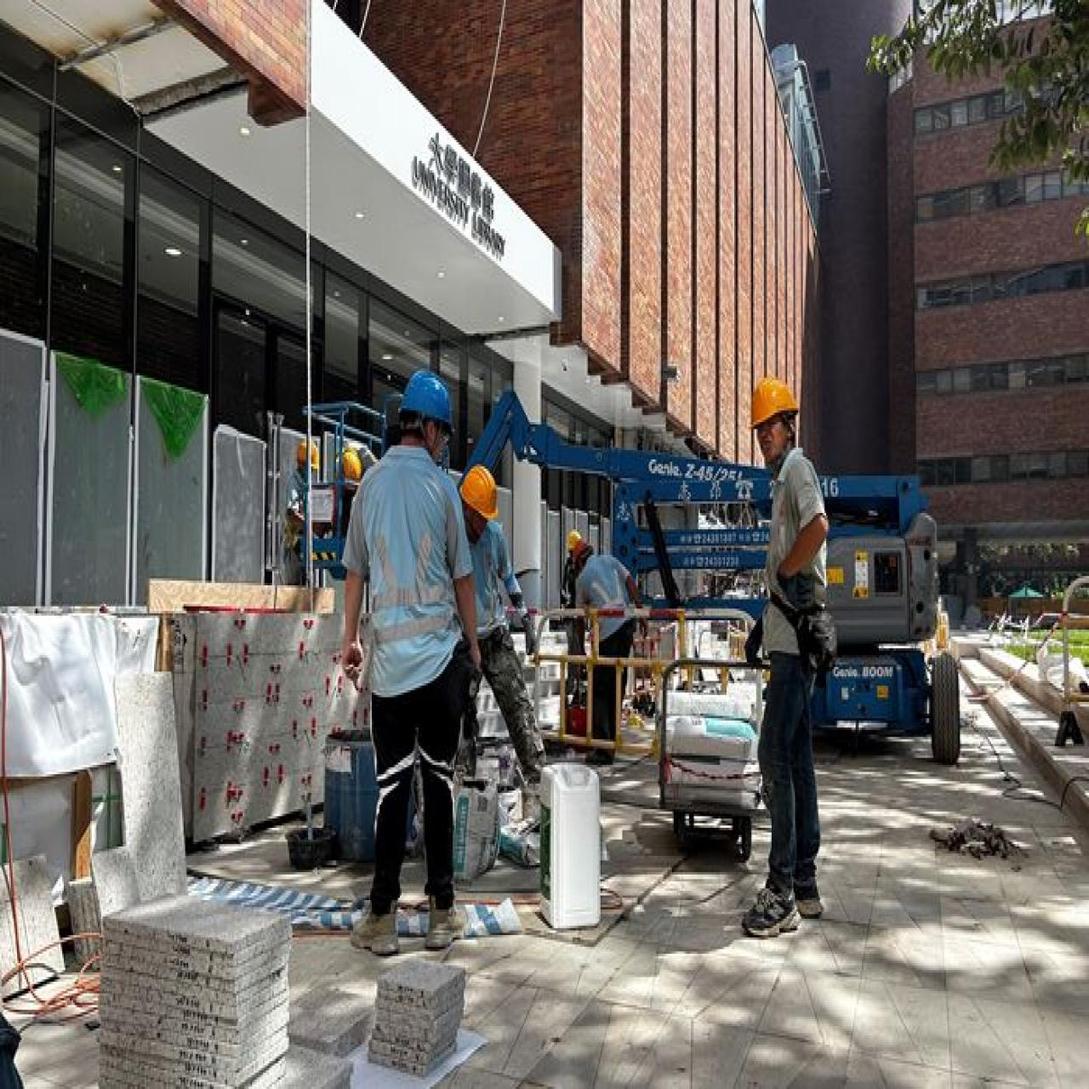NO_Safety_Vest: (350, 456, 466, 702), (754, 456, 826, 664), (575, 546, 641, 648), (460, 517, 516, 636)
Person: (322, 347, 483, 962), (702, 359, 842, 945), (439, 447, 574, 830), (562, 518, 659, 770)
